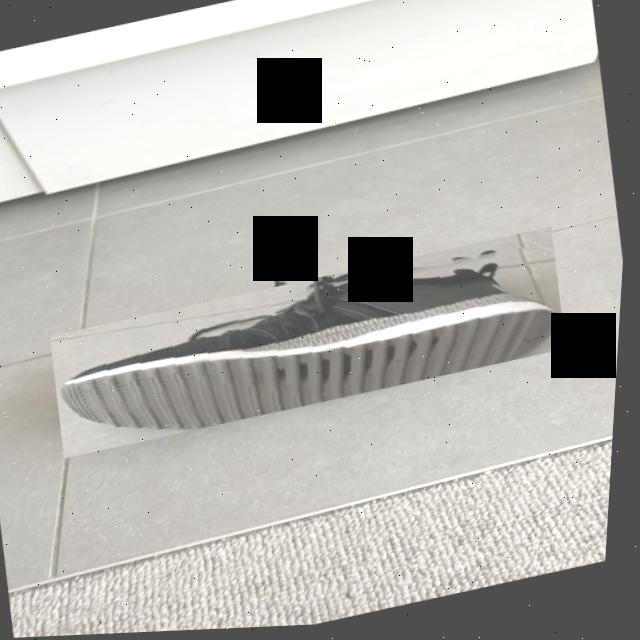shoe: (48, 230, 576, 460)
